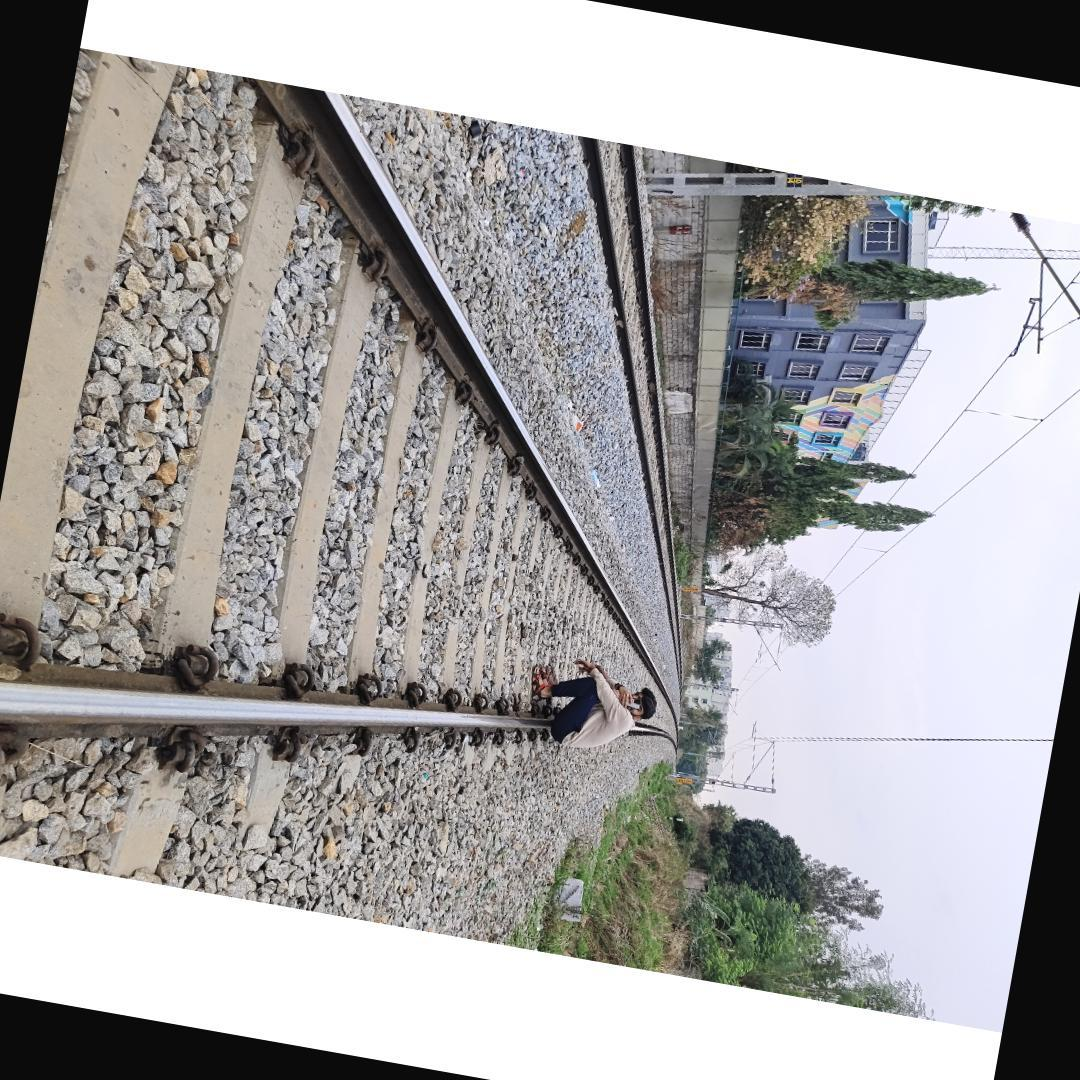sitting: (518, 649, 662, 761)
track: (0, 47, 689, 839)
